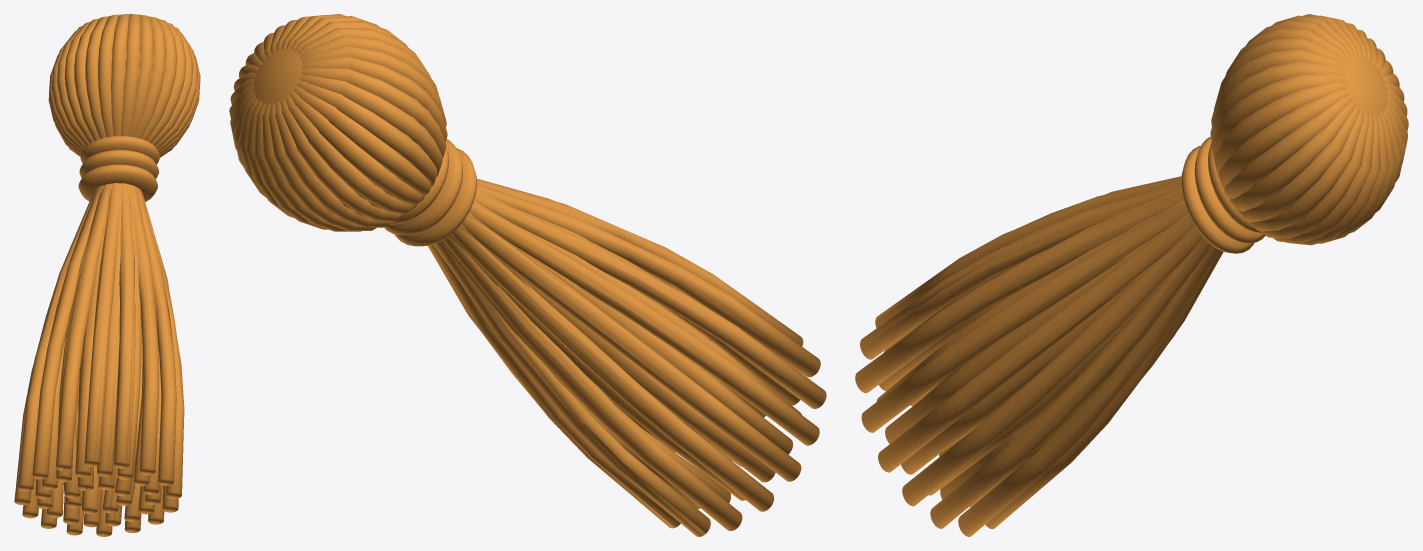
File: Magic_Carpet.fbx
The picture shows the model from 3 angles, left to right: view 1: azimuth 30°, elevation 25°; view 2: azimuth 150°, elevation 25°; view 3: azimuth 270°, elevation 25°; orthographic projection. The views are drawn at different scales.
Visible parts, largest first — view 1: TASSELS.175, TASSELS.176, TASSELS.215, TASSELS.220, TASSELS.221, TASSELS.225, TASSELS.226, TASSELS.183, TASSELS.218, TASSELS.191, TASSELS.172, TASSELS.194 (+33 smaller); view 2: TASSELS.217, TASSELS.224, TASSELS.226, TASSELS.219, TASSELS.221, TASSELS.180, TASSELS.176, TASSELS.216, TASSELS.196, TASSELS.215, TASSELS.188, TASSELS.203 (+15 smaller); view 3: TASSELS.218, TASSELS.225, TASSELS.227, TASSELS.220, TASSELS.222, TASSELS.175, TASSELS.223, TASSELS.216, TASSELS.215, TASSELS.189, TASSELS.197, TASSELS.204 (+15 smaller).
Part boxes in pixels (x1=…): TASSELS.175: x1=98, y1=14, x2=153, y2=489; TASSELS.176: x1=55, y1=16, x2=109, y2=490; TASSELS.215: x1=84, y1=14, x2=129, y2=466; TASSELS.220: x1=131, y1=19, x2=176, y2=475; TASSELS.221: x1=32, y1=22, x2=100, y2=479; TASSELS.225: x1=138, y1=27, x2=193, y2=485; TASSELS.226: x1=18, y1=31, x2=94, y2=491; TASSELS.183: x1=96, y1=183, x2=122, y2=476; TASSELS.218: x1=142, y1=55, x2=200, y2=498; TASSELS.191: x1=75, y1=183, x2=112, y2=477; TASSELS.172: x1=78, y1=164, x2=157, y2=201; TASSELS.194: x1=117, y1=184, x2=141, y2=479; TASSELS.217: x1=294, y1=86, x2=801, y2=481; TASSELS.224: x1=285, y1=96, x2=774, y2=511; TASSELS.226: x1=299, y1=75, x2=819, y2=445; TASSELS.219: x1=275, y1=101, x2=742, y2=530; TASSELS.221: x1=301, y1=56, x2=826, y2=408; TASSELS.180: x1=262, y1=103, x2=731, y2=536; TASSELS.176: x1=300, y1=36, x2=820, y2=417; TASSELS.216: x1=245, y1=101, x2=680, y2=528; TASSELS.196: x1=459, y1=224, x2=775, y2=482; TASSELS.215: x1=294, y1=21, x2=803, y2=346; TASSELS.188: x1=467, y1=212, x2=792, y2=454; TASSELS.203: x1=290, y1=91, x2=424, y2=205; TASSELS.218: x1=878, y1=95, x2=1352, y2=472; TASSELS.225: x1=861, y1=82, x2=1347, y2=432; TASSELS.227: x1=902, y1=106, x2=1359, y2=506; TASSELS.220: x1=855, y1=60, x2=1345, y2=393; TASSELS.222: x1=930, y1=113, x2=1368, y2=528; TASSELS.175: x1=860, y1=38, x2=1347, y2=406; TASSELS.223: x1=958, y1=115, x2=1380, y2=536; TASSELS.216: x1=985, y1=112, x2=1395, y2=529; TASSELS.215: x1=875, y1=20, x2=1351, y2=327; TASSELS.189: x1=901, y1=226, x2=1197, y2=474; TASSELS.197: x1=885, y1=213, x2=1189, y2=443; TASSELS.204: x1=1219, y1=89, x2=1349, y2=189.
Size of the model in its own units: 51.24 by 68.29 by 57.51.
